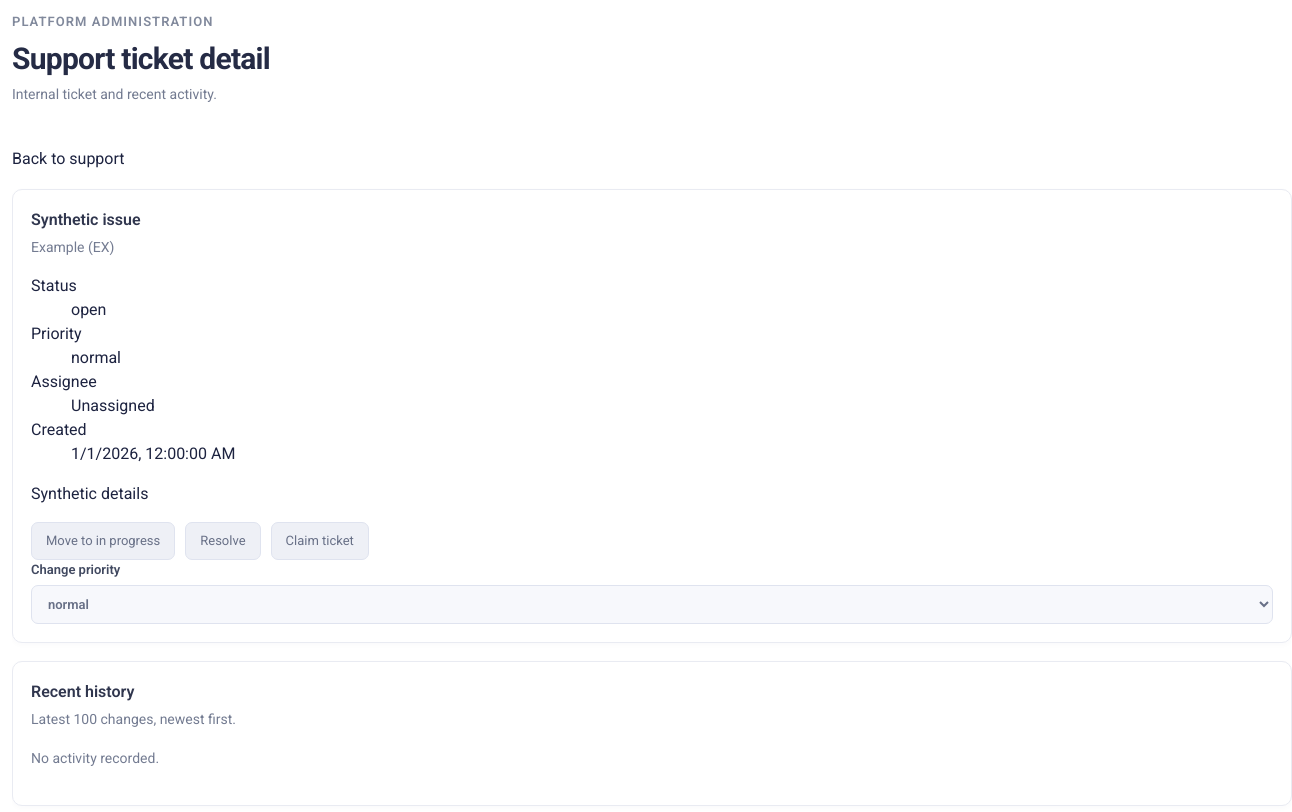
Test: platform support › surfaces stale write failures and provides reload
Later steps or results of the test are not shown.
Check: the text "Synthetic details" is shown, box x1=31 y1=484 x2=148 y2=503
Click the button "Claim ticket" at (320, 541), box x1=270 y1=522 x2=369 y2=560
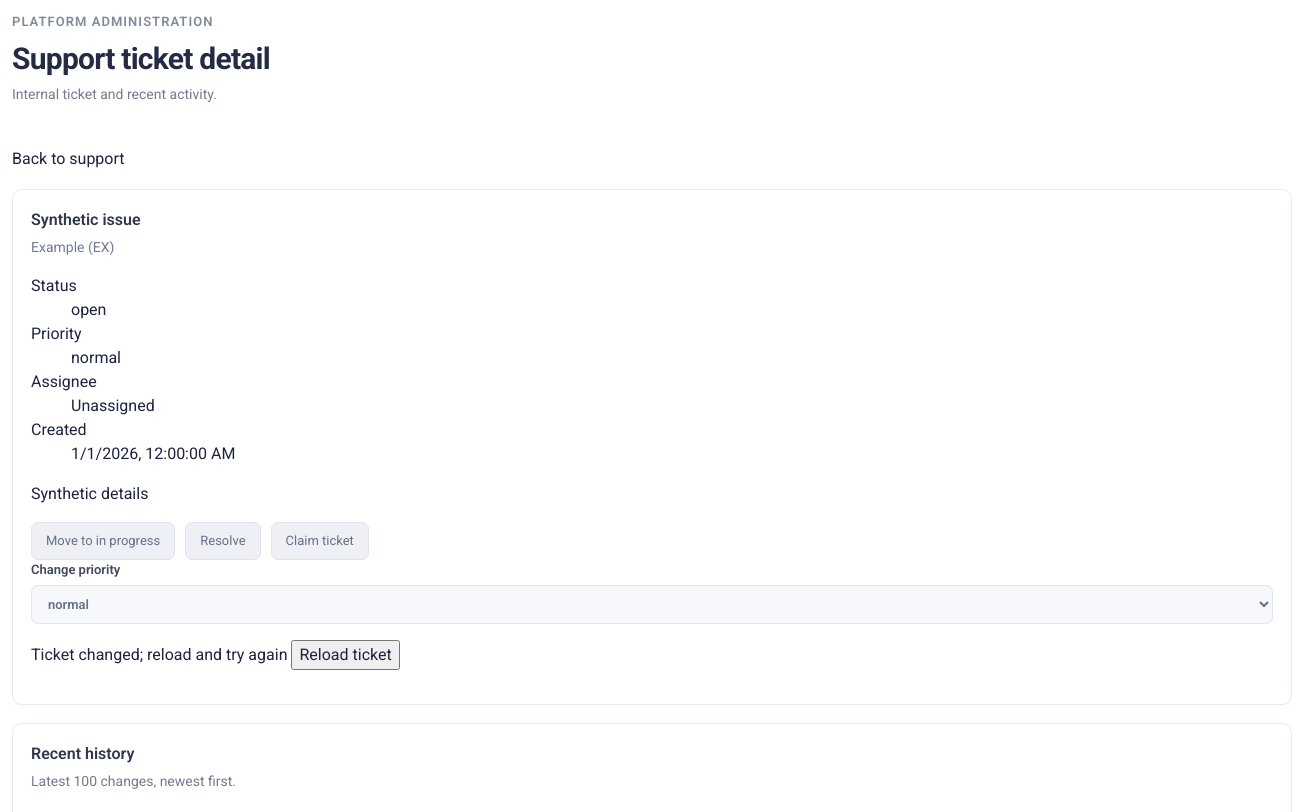
Check: the message shows "Ticket changed", box x1=31 y1=645 x2=288 y2=664
